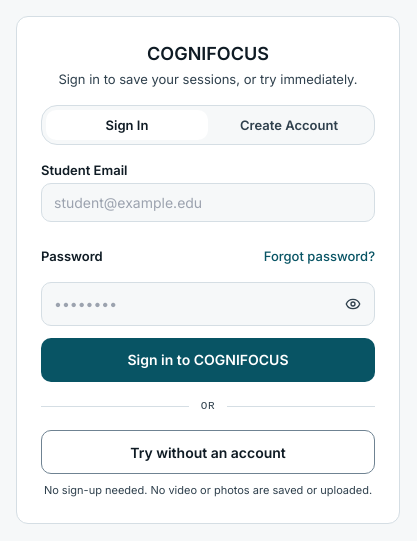
Test: StudentLoginView Component › allows switching between Sign In and Create Account modes
Click the tab "Create Account".
click(289, 125)  # box [208,110,370,140]
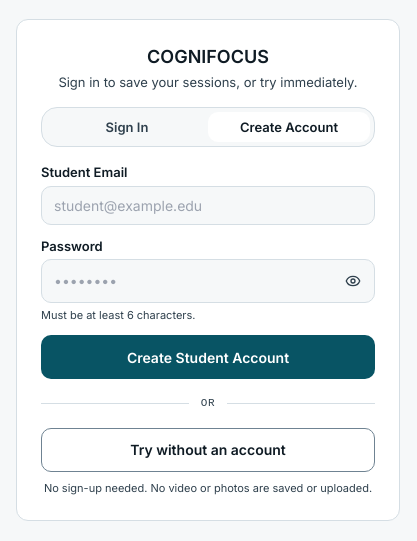
Expected: the button "Create Student Account" is shown, [41,335,375,379]
Expected: the text "Must be at least 6 characters." is shown, [41,308,195,322]
Click the tab "Sign In".
click(127, 127)  # box [46,112,208,142]
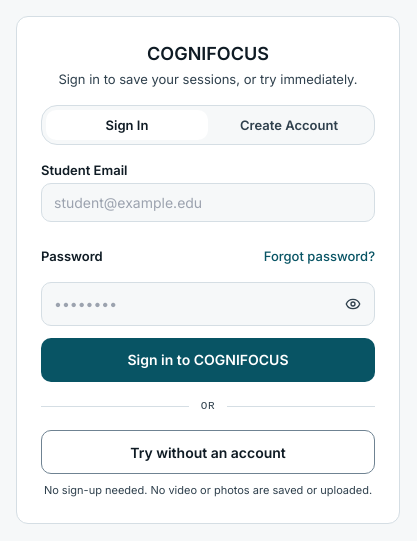
Expected: the button "Sign in to COGNIFOCUS" is shown, [41,338,375,382]
